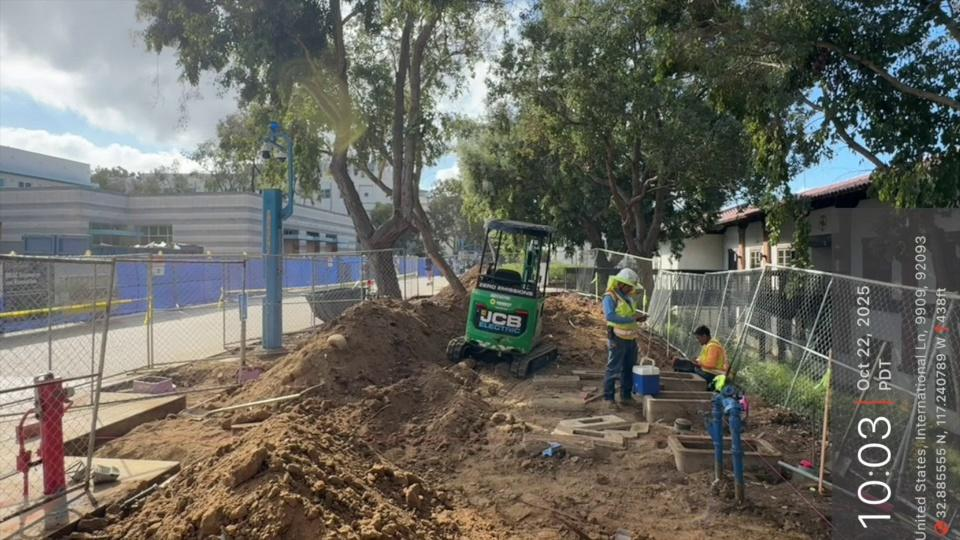Exacavator: (444, 217, 559, 379)
